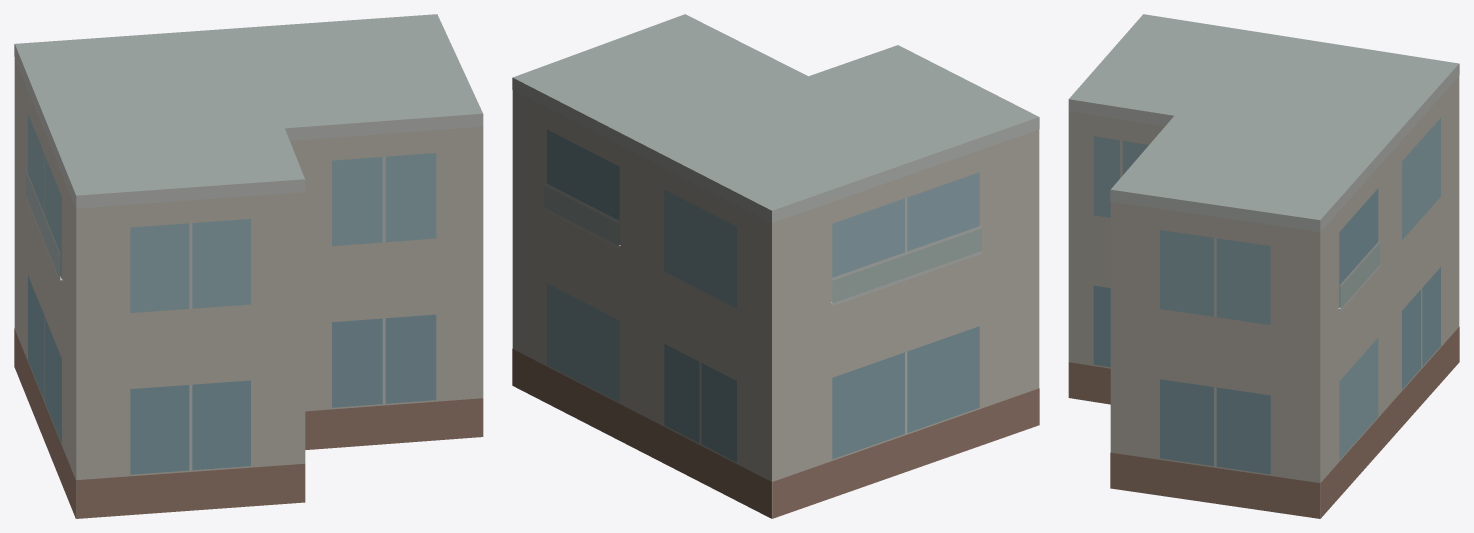
The model's file is survey-upis-32810677.glb.
The picture shows the model from 3 angles, left to right: view 1: azimuth 30°, elevation 25°; view 2: azimuth 150°, elevation 25°; view 3: azimuth 270°, elevation 25°; orthographic projection. The views are drawn at different scales.
Parts seen in each view (by area): view 1: survey-upis-32810677.tmp; view 2: survey-upis-32810677.tmp; view 3: survey-upis-32810677.tmp.
Boxes of the visible parts, x1,y1,x2,y2 form: survey-upis-32810677.tmp: (14, 14, 483, 518); survey-upis-32810677.tmp: (512, 14, 1039, 518); survey-upis-32810677.tmp: (1068, 14, 1459, 518).
Size of the model in its own units: 9.04 by 6.1 by 7.24.
